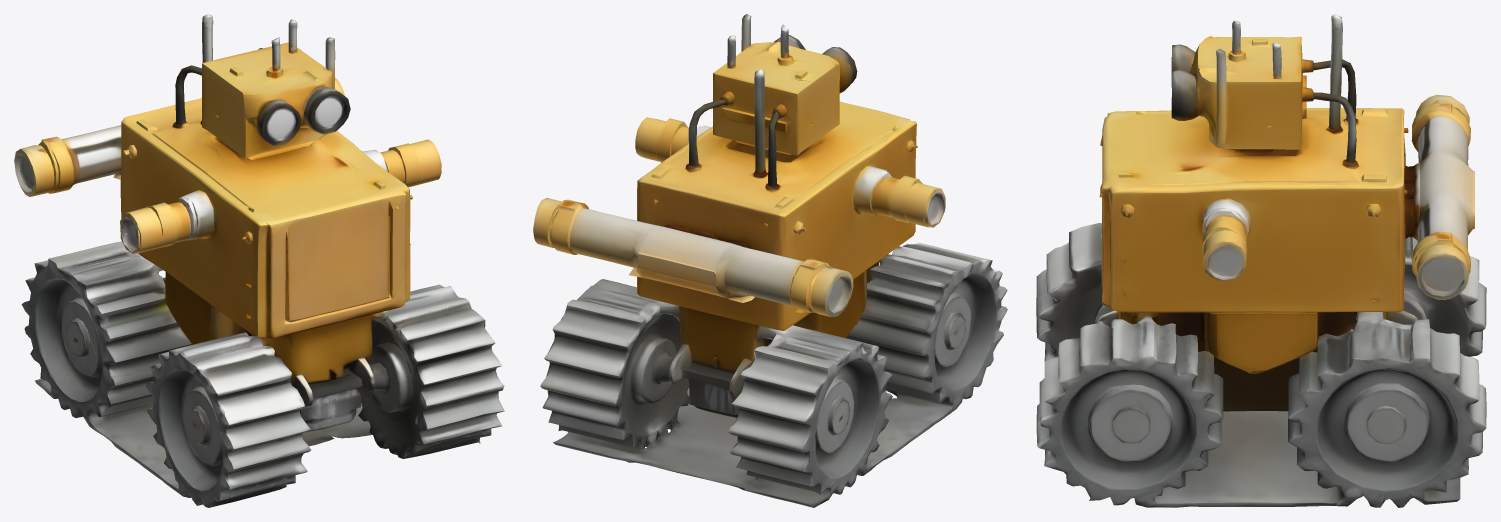
The model's file is droid_cargo_b.glb.
The picture shows the model from 3 angles, left to right: view 1: azimuth 30°, elevation 25°; view 2: azimuth 150°, elevation 25°; view 3: azimuth 270°, elevation 25°; orthographic projection. The views are drawn at different scales.
Visible parts, largest first — view 1: model; view 2: model; view 3: model.
Boxes of the visible parts, x1,y1,x2,y2 form: model: [14, 14, 504, 507]; model: [533, 14, 1007, 507]; model: [1036, 14, 1486, 507].
Bounding box in the file's own units: 1.58 × 1.92 × 1.87.
Materials: 1 (1 with a texture image).
